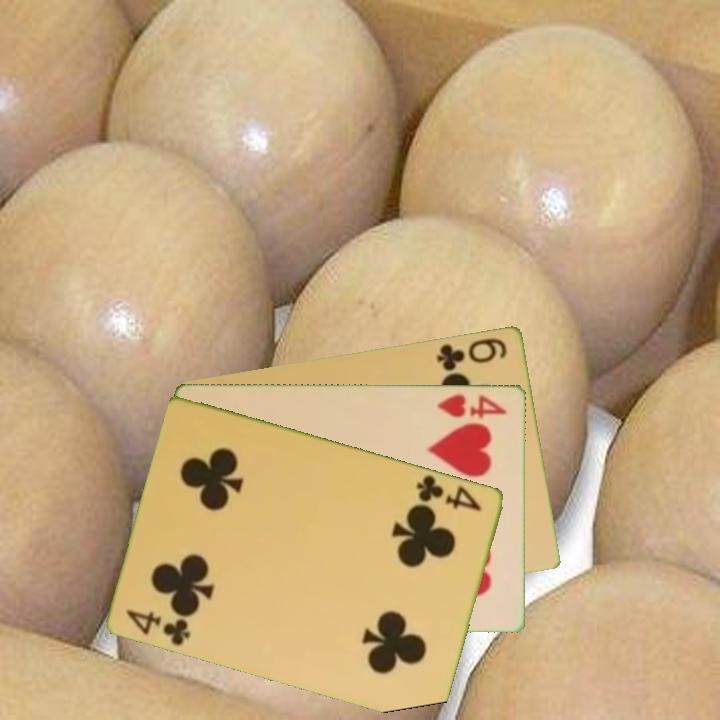4c: (122, 605, 194, 649), (413, 471, 485, 514)
4h: (434, 390, 510, 421)
6c: (433, 334, 511, 373)
